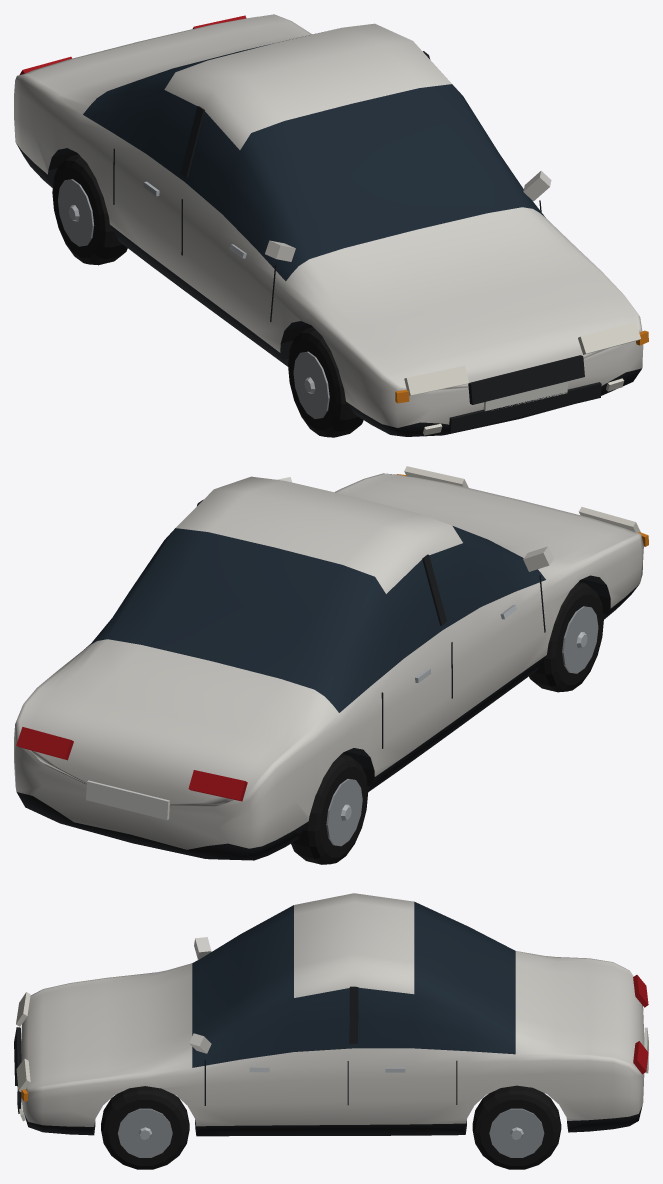
Rendered from berline.glb.
The picture shows the model from 3 angles, top to bottom: view 1: azimuth 30°, elevation 25°; view 2: azimuth 150°, elevation 25°; view 3: azimuth 270°, elevation 25°; orthographic projection. The views are drawn at different scales.
Parts seen in each view (by area): view 1: body.001, roue-wheel-back-right.001, roue-wheel-front-right.001; view 2: body.001, roue-wheel-back-right.001, roue-wheel-front-right.001; view 3: body.001, roue-wheel-back-left.001, roue-wheel-front-left.001.
Boxes of the visible parts, x1,y1,x2,y2 form: body.001: (14,14,648,436); roue-wheel-back-right.001: (52,154,127,265); roue-wheel-front-right.001: (288,327,363,437); body.001: (14,466,648,860); roue-wheel-back-right.001: (291,754,368,864); roue-wheel-front-right.001: (529,582,603,692); body.001: (14,893,648,1136); roue-wheel-back-left.001: (472,1085,561,1169); roue-wheel-front-left.001: (101,1086,189,1169).
Size of the model in its own units: 1.8 by 1.5 by 4.44.
